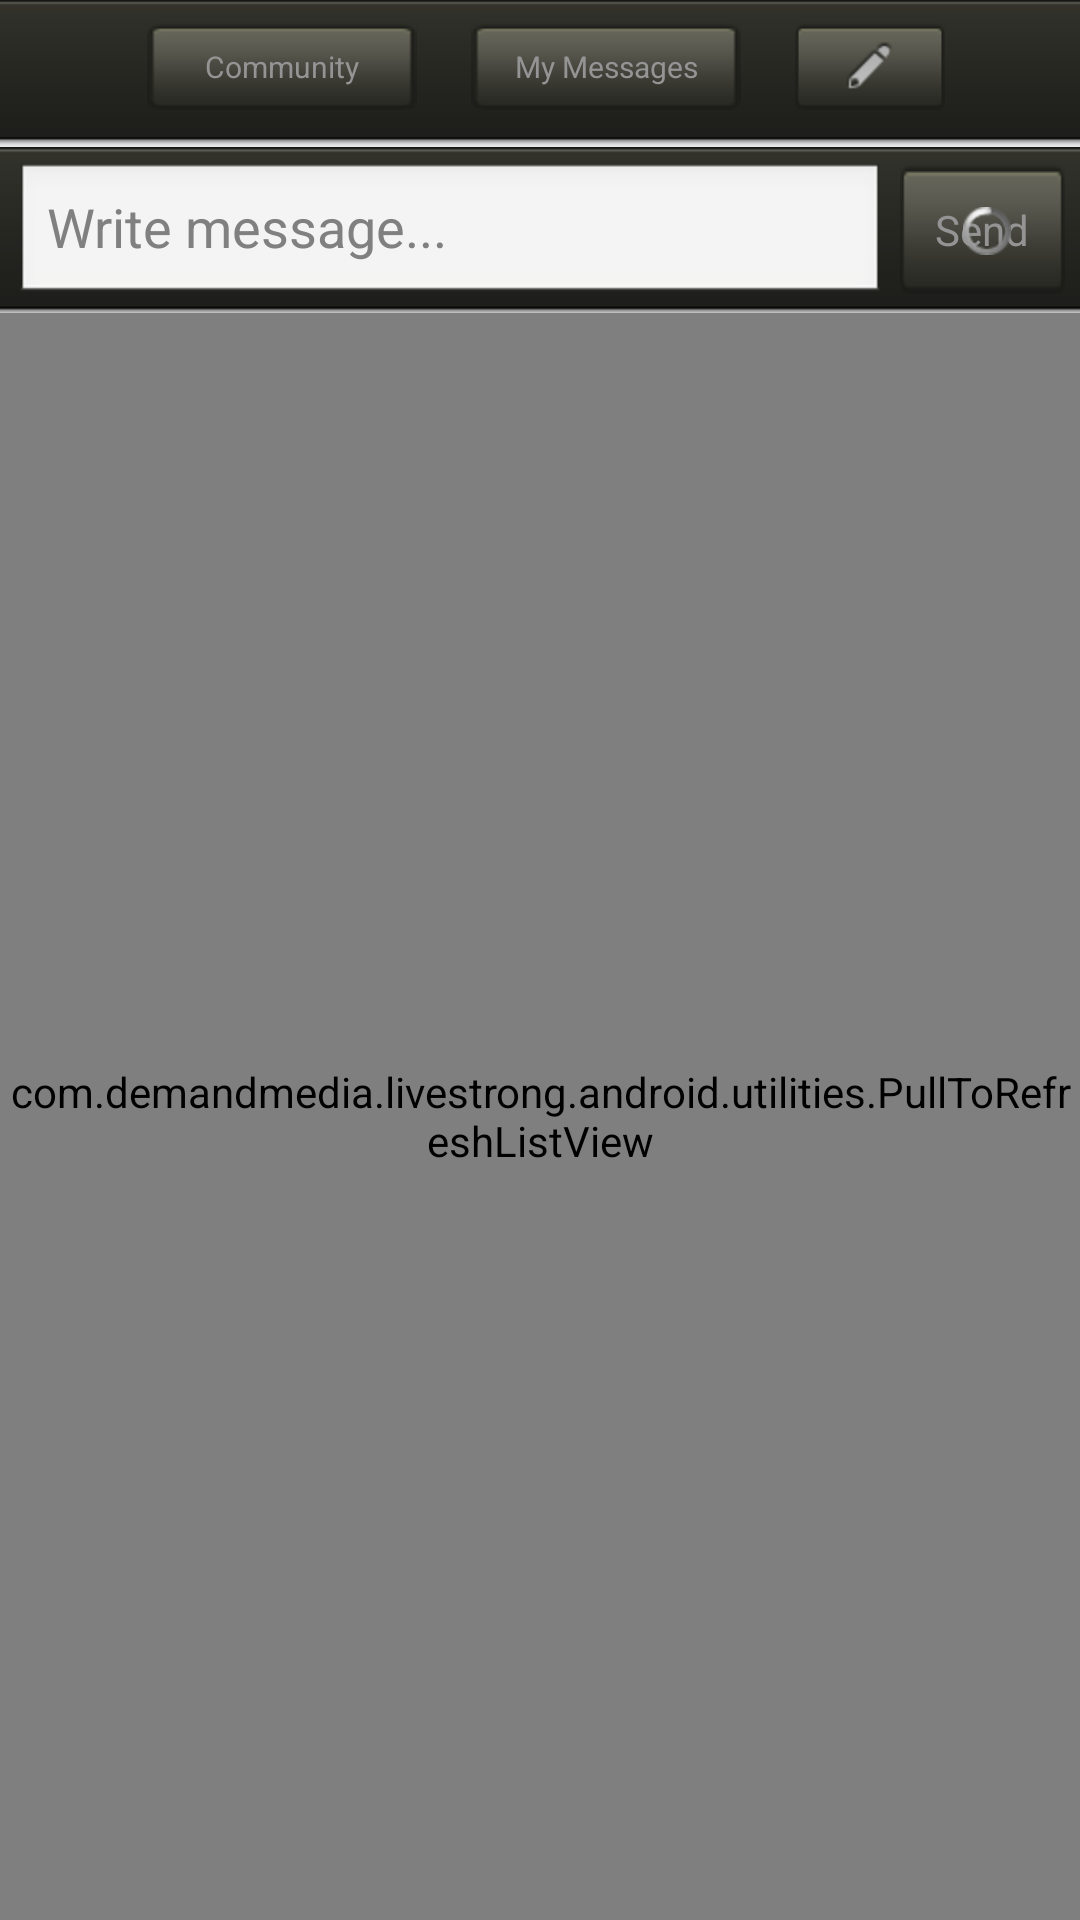

Where to tap for icons on this 1080x1920 app screen, as (x=x, y=y):
pencil: (x=870, y=58)
